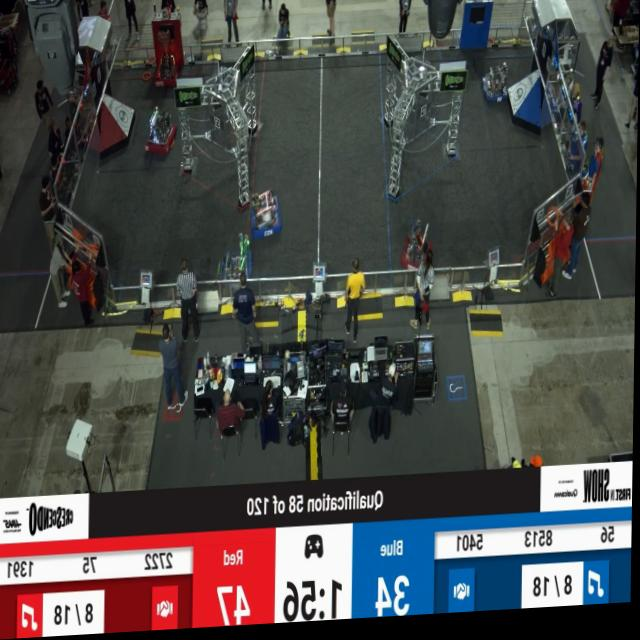Robot: (398, 216, 437, 287), (149, 21, 181, 96), (146, 105, 180, 161), (251, 190, 284, 245), (479, 66, 511, 112)
